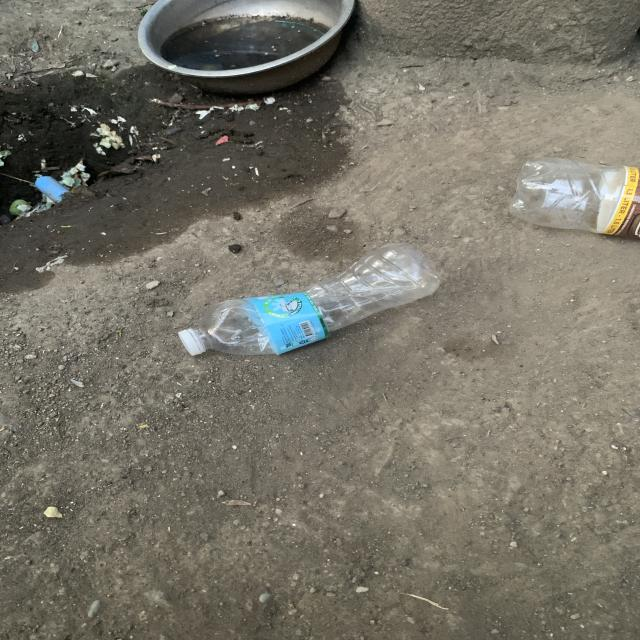Bottle: (179, 244, 440, 356)
